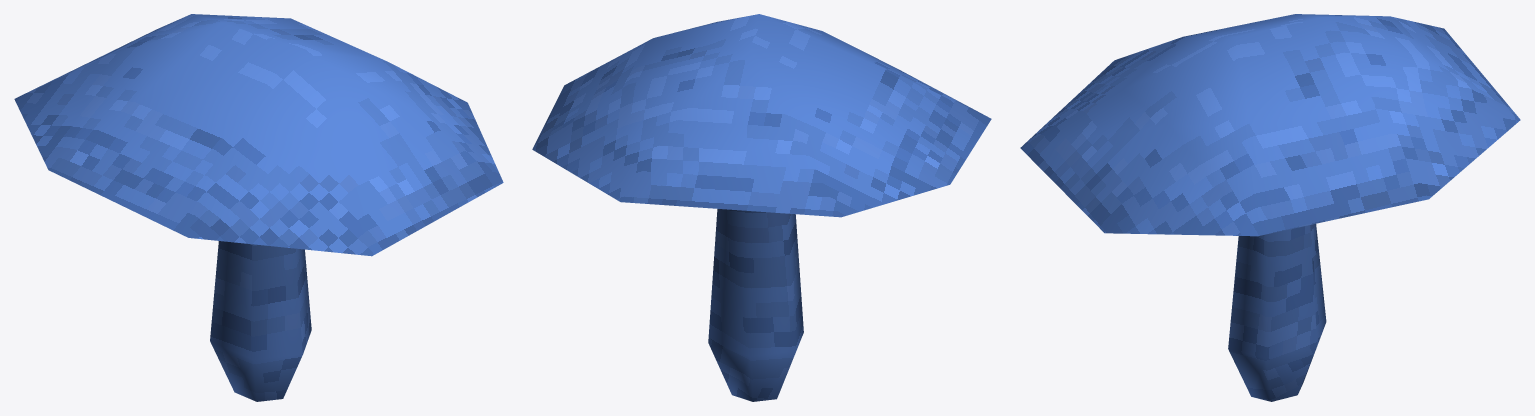
Rendered from Mushroom.fbx.
3 views of the same model, side by side, from view 1: azimuth 30°, elevation 25°; view 2: azimuth 150°, elevation 25°; view 3: azimuth 270°, elevation 25° (orthographic). The views are drawn at different scales.
Visible parts, largest first — view 1: Mushroom; view 2: Mushroom; view 3: Mushroom.
Boxes of the visible parts, x1=… form: Mushroom: x1=14, y1=14, x2=503, y2=401; Mushroom: x1=532, y1=14, x2=991, y2=401; Mushroom: x1=1020, y1=14, x2=1520, y2=401.
Size of the model in its own units: 0.5681 by 0.4861 by 0.602.
